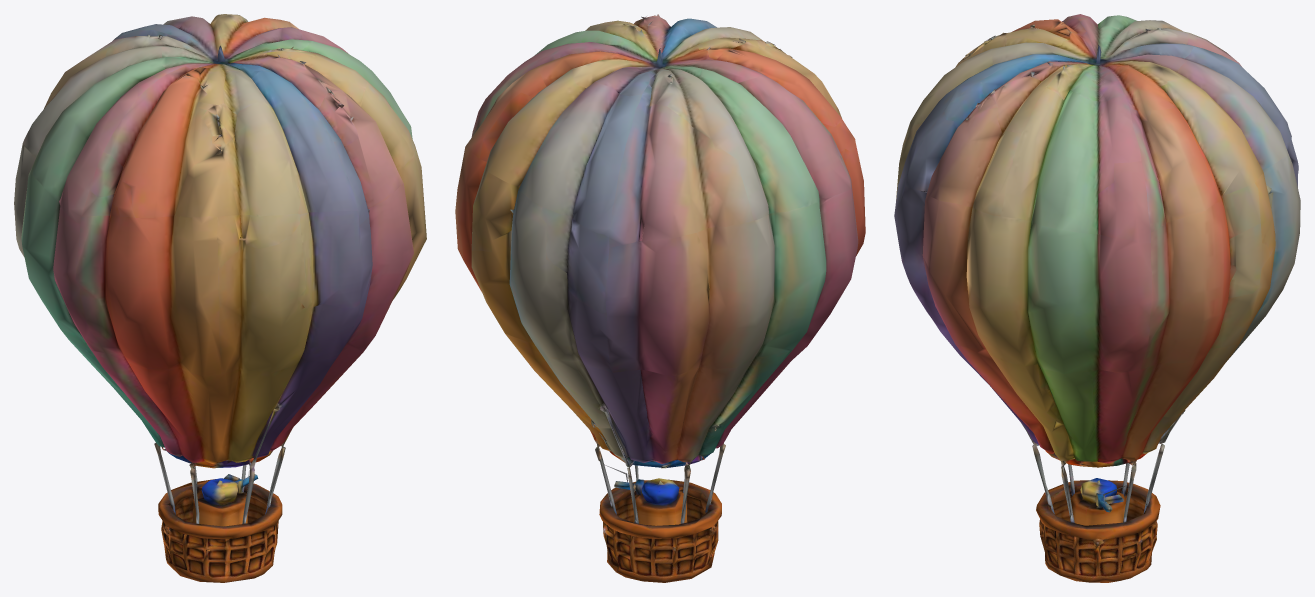
Rendered from balloon.glb.
3 renders of one model, left to right at view 1: azimuth 30°, elevation 25°; view 2: azimuth 150°, elevation 25°; view 3: azimuth 270°, elevation 25°, orthographic.
Visible parts, largest first — view 1: tripo_node_adab4169-ff39-4a8a-942f-0733c4884aae; view 2: tripo_node_adab4169-ff39-4a8a-942f-0733c4884aae; view 3: tripo_node_adab4169-ff39-4a8a-942f-0733c4884aae.
Boxes of the visible parts, x1,y1,x2,y2 form: tripo_node_adab4169-ff39-4a8a-942f-0733c4884aae: (14, 14, 426, 582); tripo_node_adab4169-ff39-4a8a-942f-0733c4884aae: (455, 14, 865, 582); tripo_node_adab4169-ff39-4a8a-942f-0733c4884aae: (894, 14, 1300, 582).
Bounding box in the file's own units: 0.7239 × 0.9985 × 0.712.
1 material, 1 textured.
